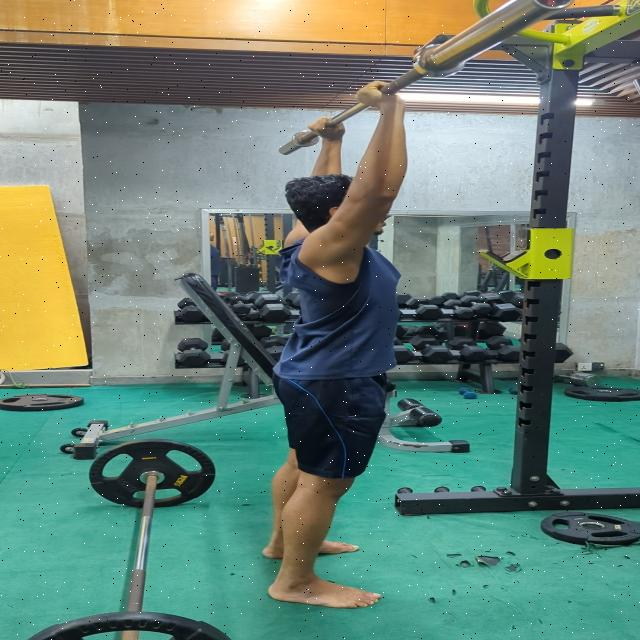Normal_OverheadPress: (240, 67, 450, 628)
